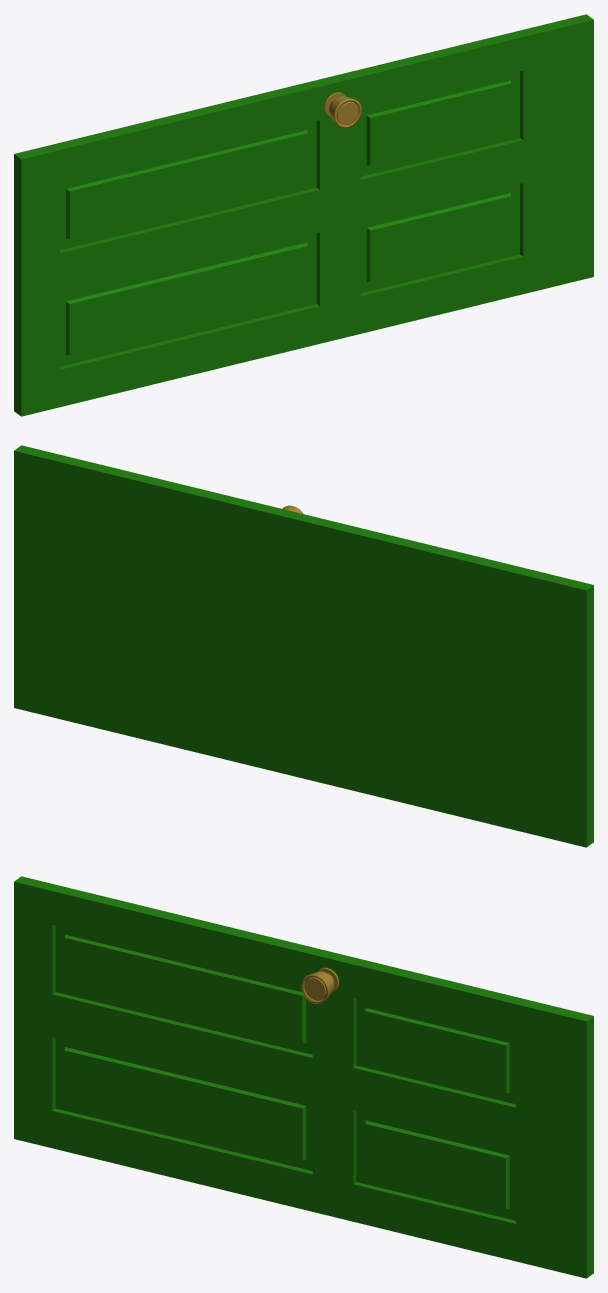
File: green_door.glb
3 views of the same model, one above another, from view 1: azimuth 30°, elevation 25°; view 2: azimuth 150°, elevation 25°; view 3: azimuth 330°, elevation 25° (orthographic).
Parts seen in each view (by area): view 1: Cube.001, Cylinder.001; view 2: Cube.001; view 3: Cube.001, Cylinder.001.
Boxes of the visible parts, left/top/right/bottom form: Cube.001: left=14, top=14, right=593, bottom=416; Cylinder.001: left=324, top=92, right=361, bottom=128; Cube.001: left=14, top=445, right=593, bottom=847; Cube.001: left=14, top=876, right=593, bottom=1278; Cylinder.001: left=301, top=967, right=339, bottom=1003.
Bounding box in the file's own units: 2.39 × 1.03 × 0.1471.
